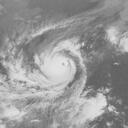cyclone: (6, 23, 97, 118)
